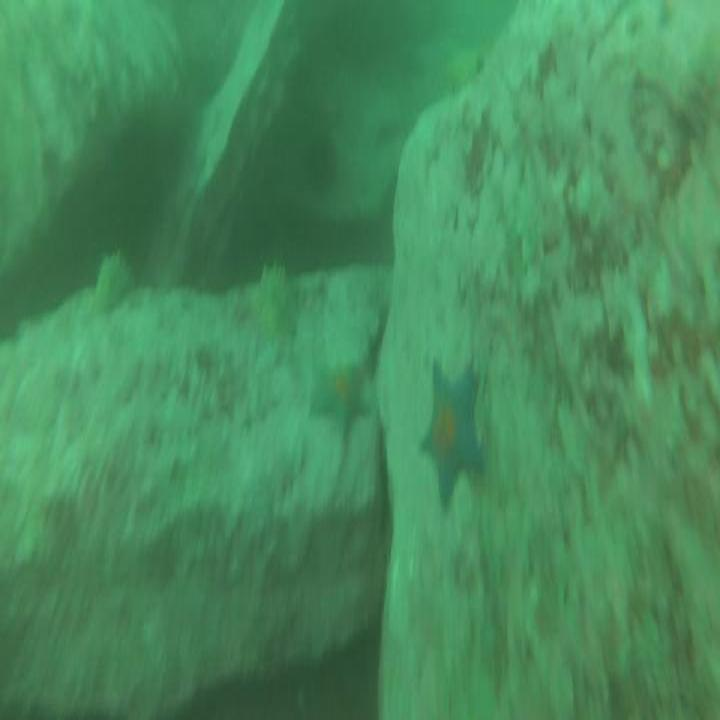echinus: (301, 128, 343, 199)
holothurian: (253, 260, 300, 354), (95, 247, 135, 311)
starfish: (418, 359, 487, 514), (309, 361, 372, 446)
